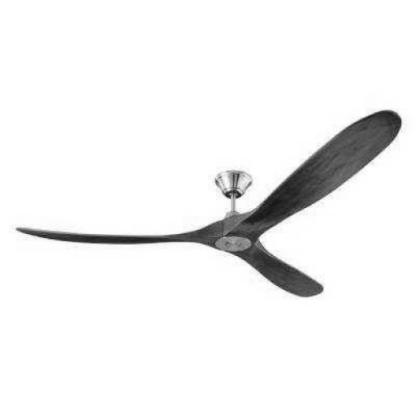ceiling-fan: (15, 110, 402, 296)
